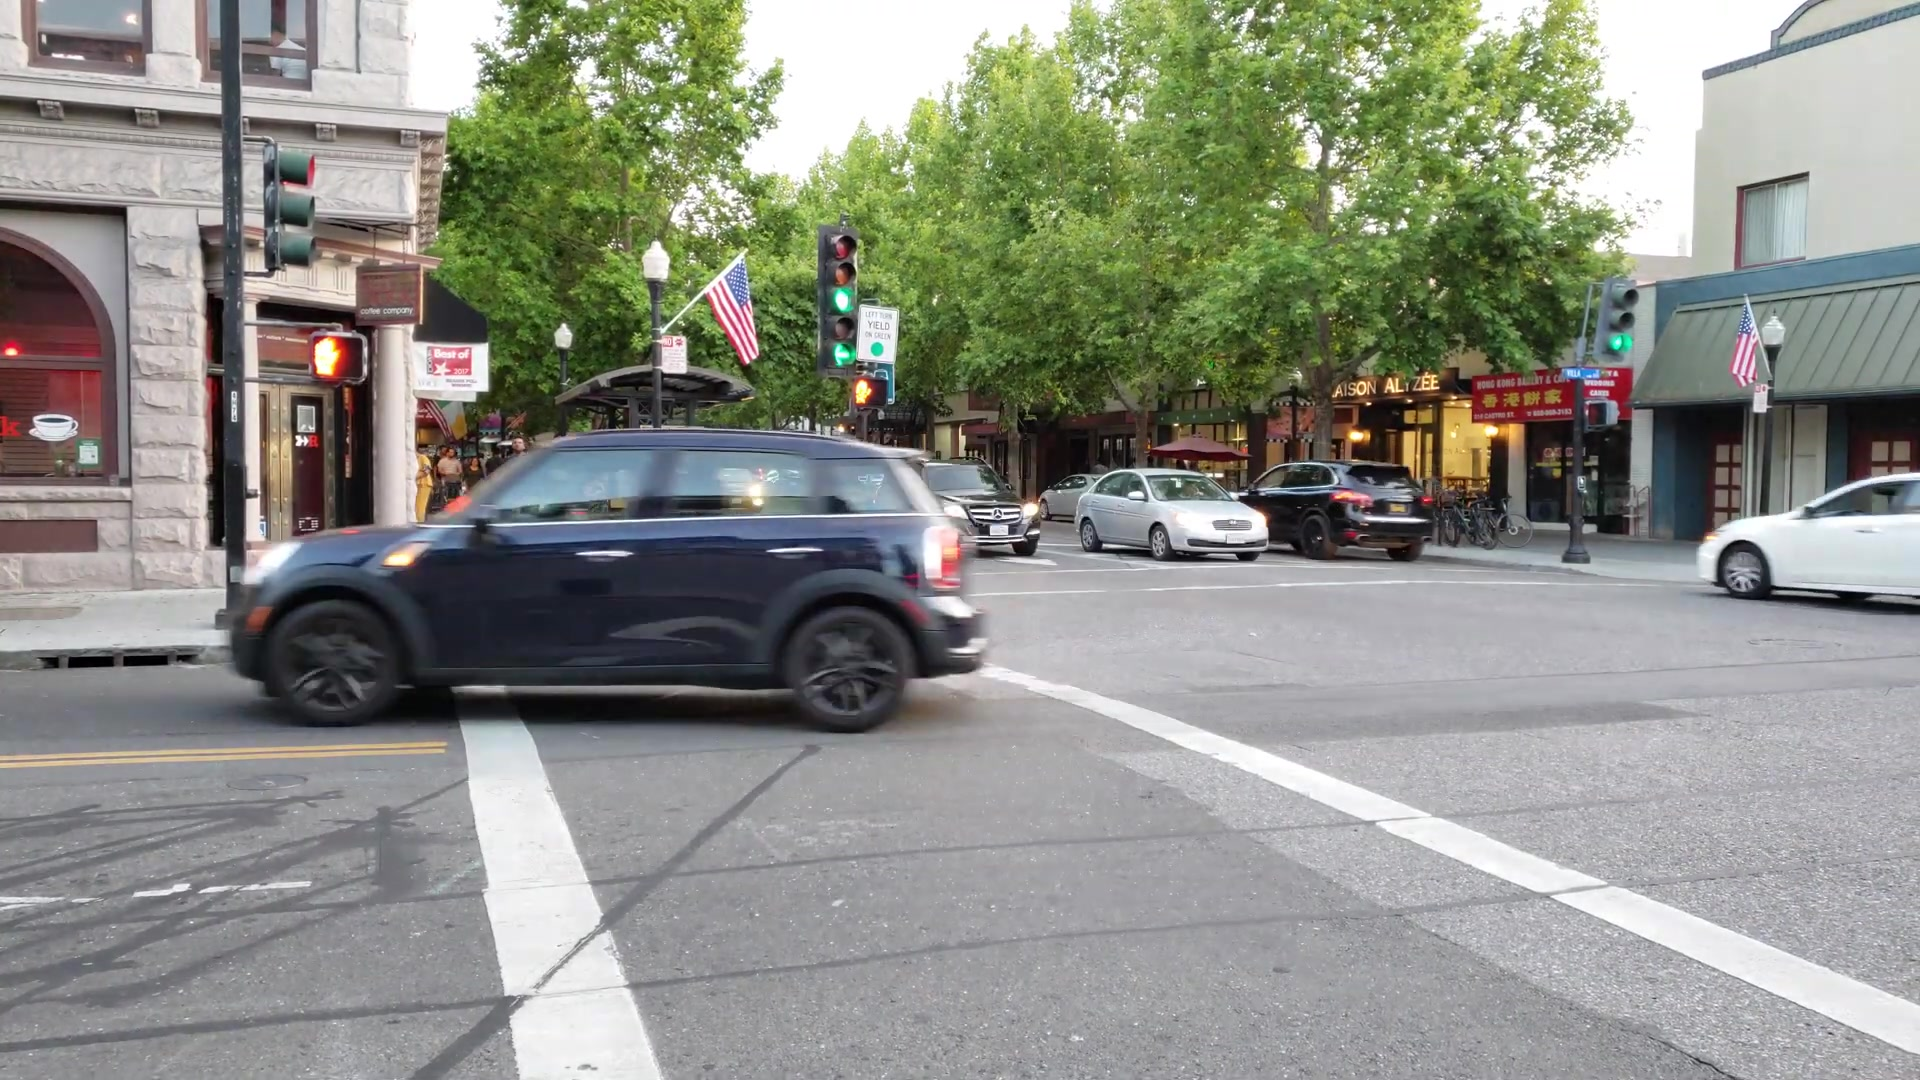vehicle: (229, 425, 984, 736), (1077, 465, 1271, 564)
